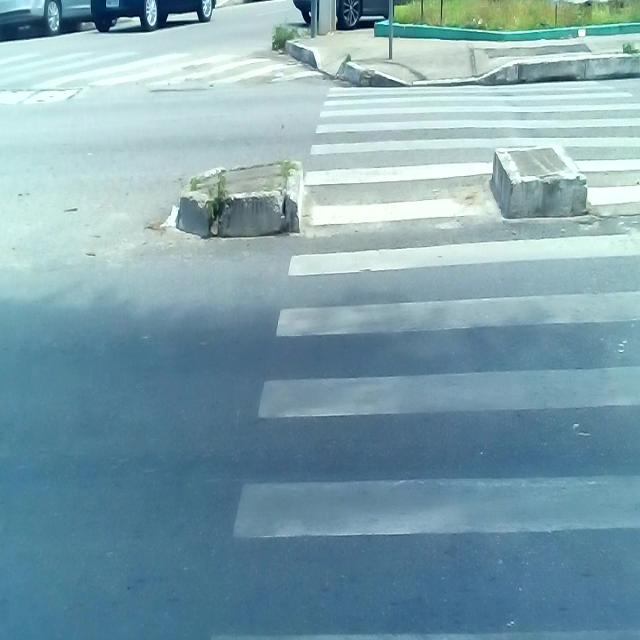crosswalk: (199, 77, 640, 640), (1, 49, 325, 89)
